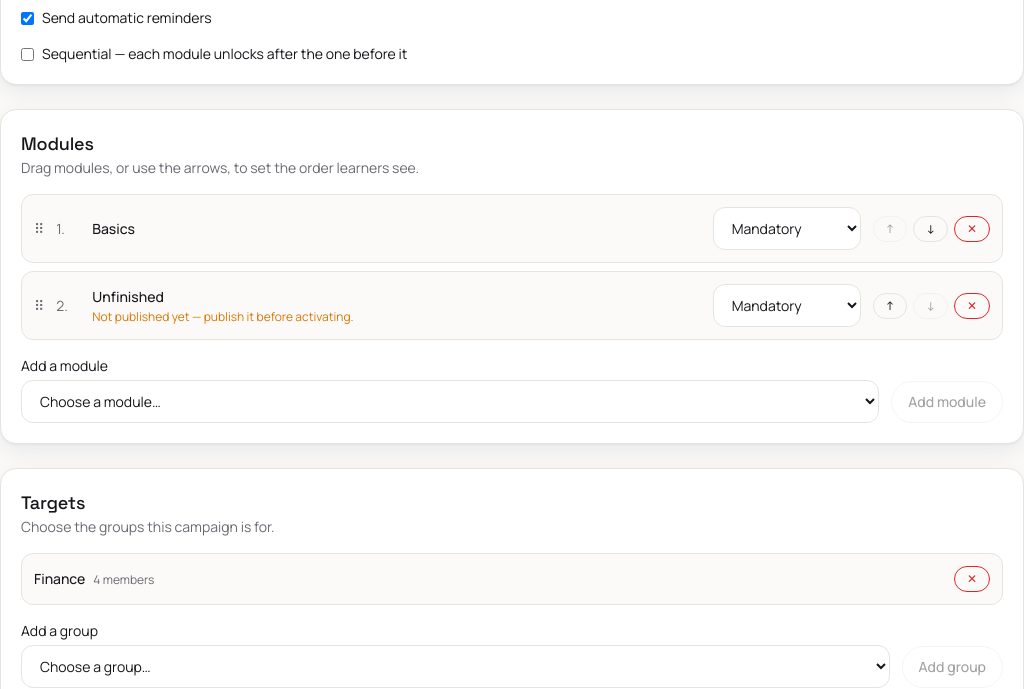
CampaignBuilderPage › asks for confirmation, naming the number, before removing from a running campaign
(page scrolled)
Click the button named "Remove Unfinished" at [972, 306], box 954,292 -> 990,318
(page scrolled)
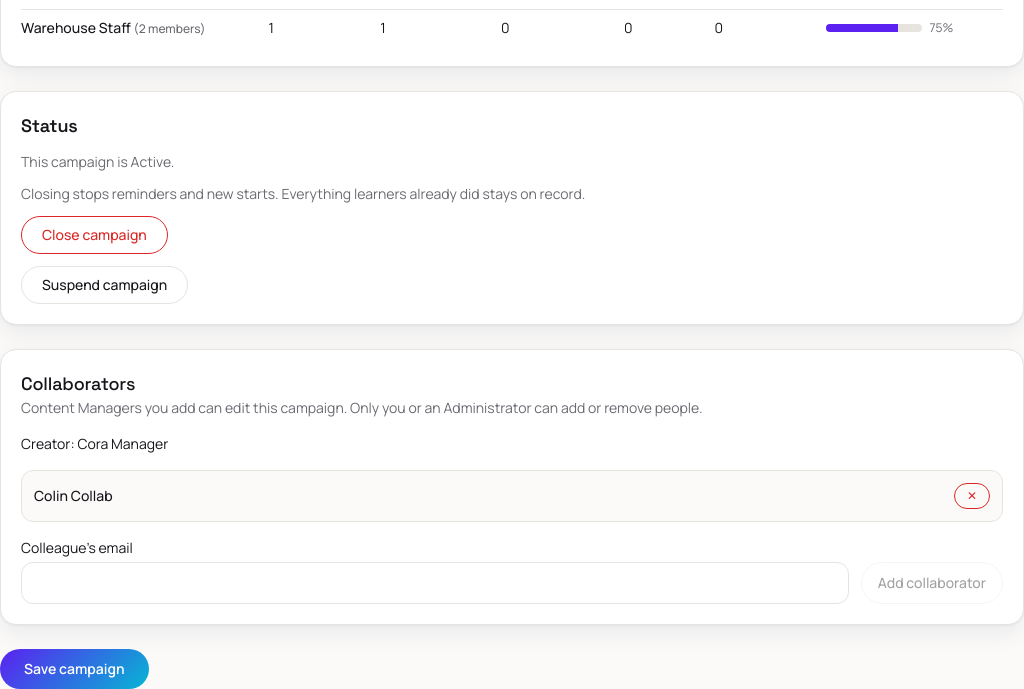
Click the button "Save campaign" at [74, 669], box 0,649 -> 149,688
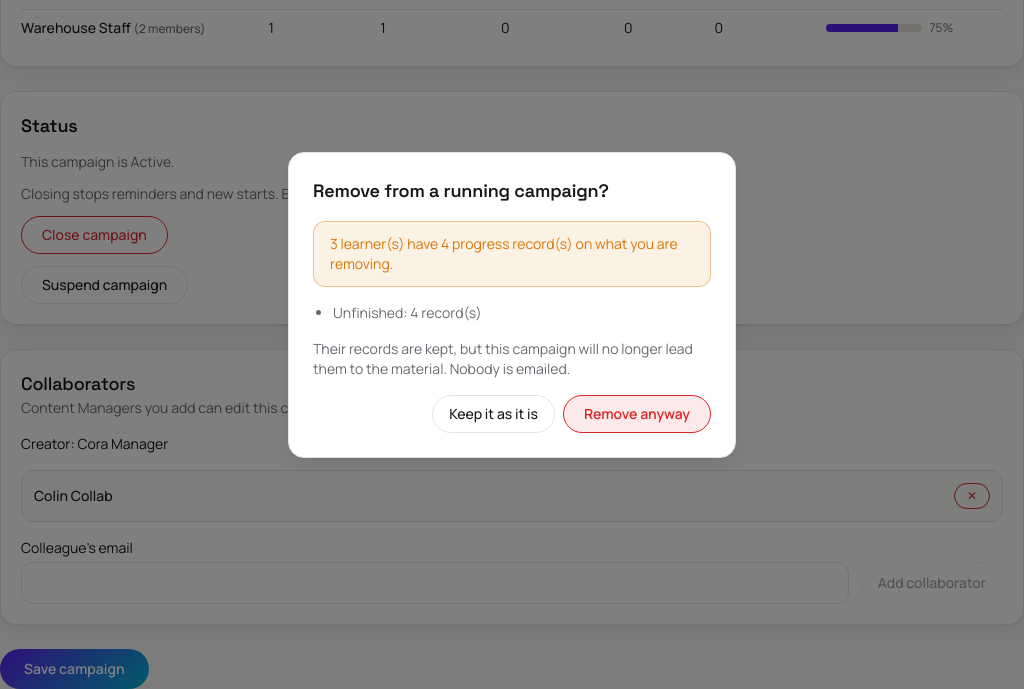
Now the text "3 learner(s) have 4 progress record(s) on what you are removing." is shown, box 313,221 -> 711,287
Now the list item "Unfinished: 4 record(s)" is shown, box 333,303 -> 482,322
Click the button "Remove anyway" at [637, 414], box 563,395 -> 711,433
(page scrolled)
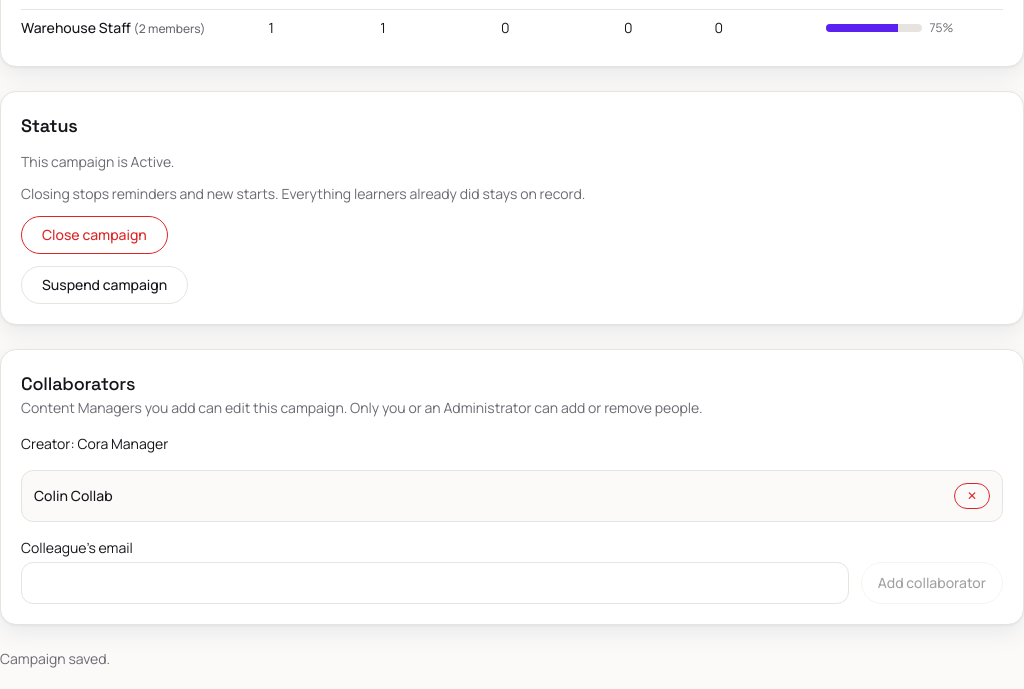
Now the dialog is gone
